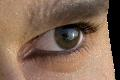eye: (55, 27, 80, 49)
